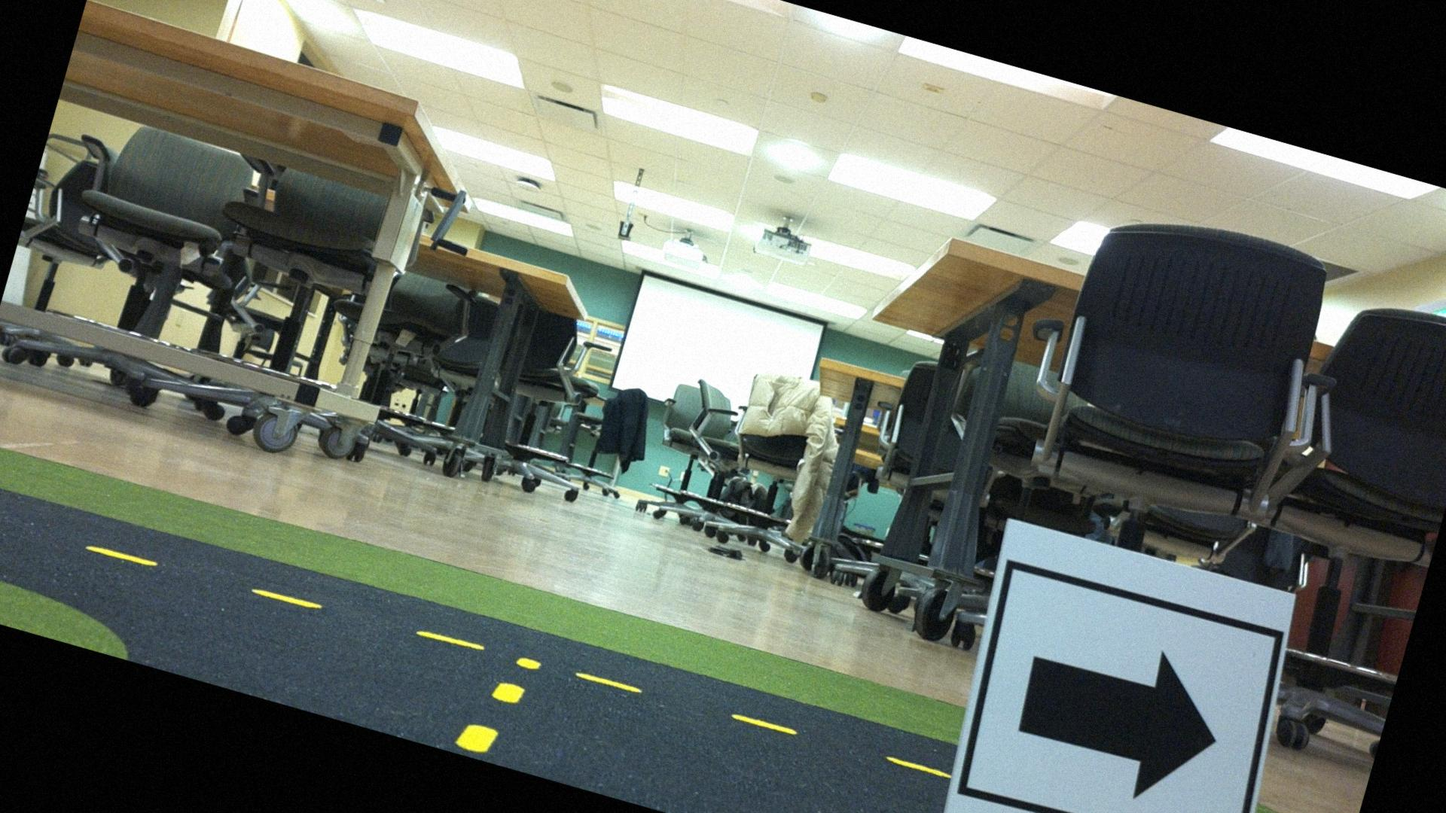turnleft: (938, 528, 1293, 812)
yellowline: (0, 486, 949, 799), (451, 641, 544, 763)
